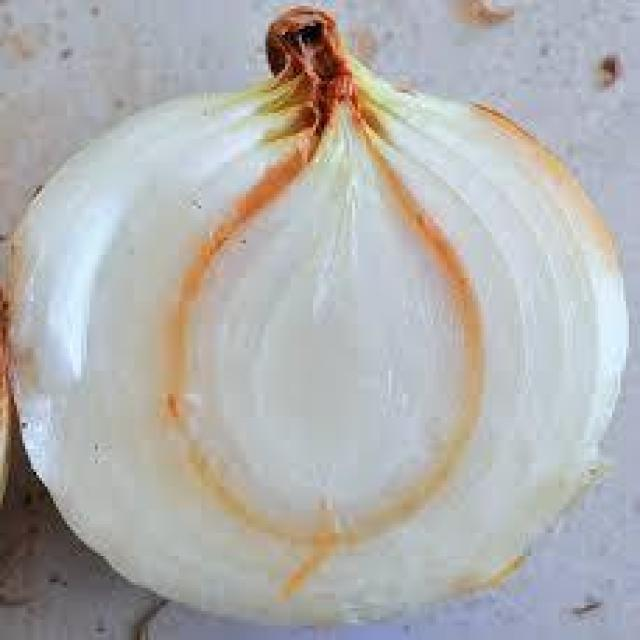Onion: (6, 6, 632, 628)
